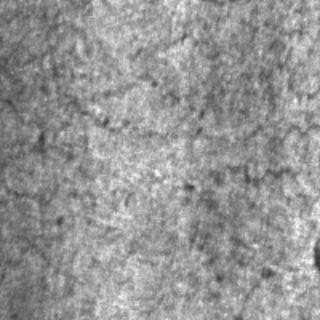crazing: (174, 158, 310, 302), (39, 82, 317, 146)
